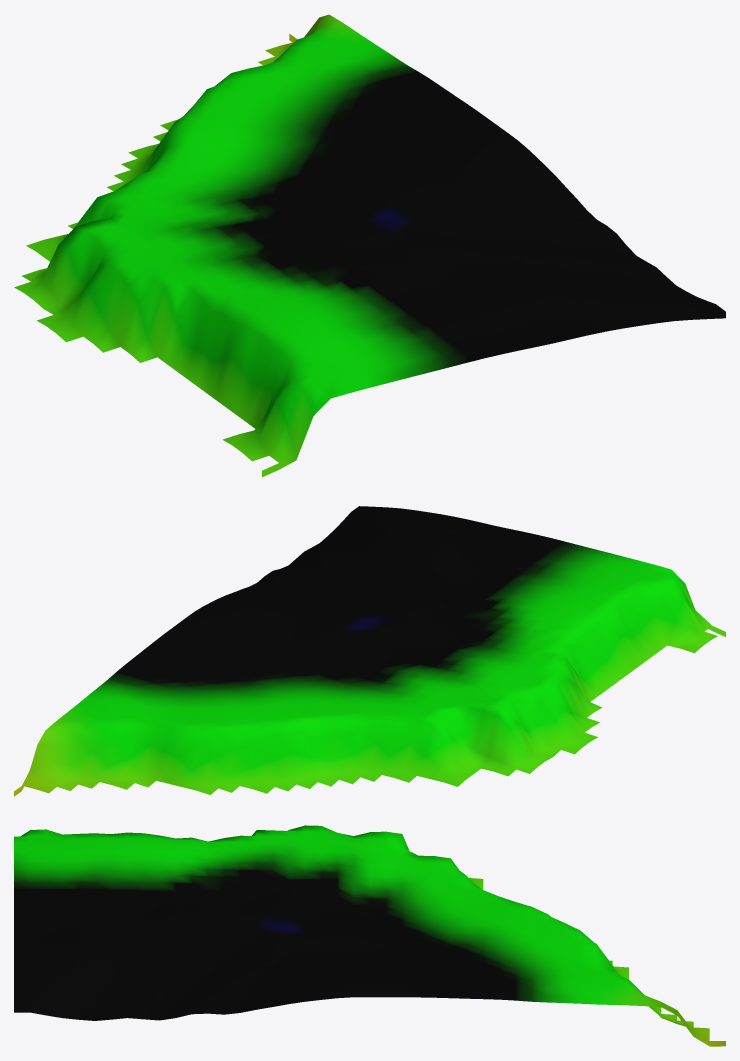
File: coast_9_10.glb
3 views of the same model, one above another, from view 1: azimuth 30°, elevation 25°; view 2: azimuth 150°, elevation 25°; view 3: azimuth 270°, elevation 25° (orthographic). The views are drawn at different scales.
Visible parts, largest first — view 1: terrain; view 2: terrain; view 3: terrain.
Part boxes in pixels (x1,y1,x2,y2): terrain: (14,14,725,477); terrain: (14,506,725,796); terrain: (14,825,725,1046).
Size of the model in its own units: 112 by 16.96 by 176.
